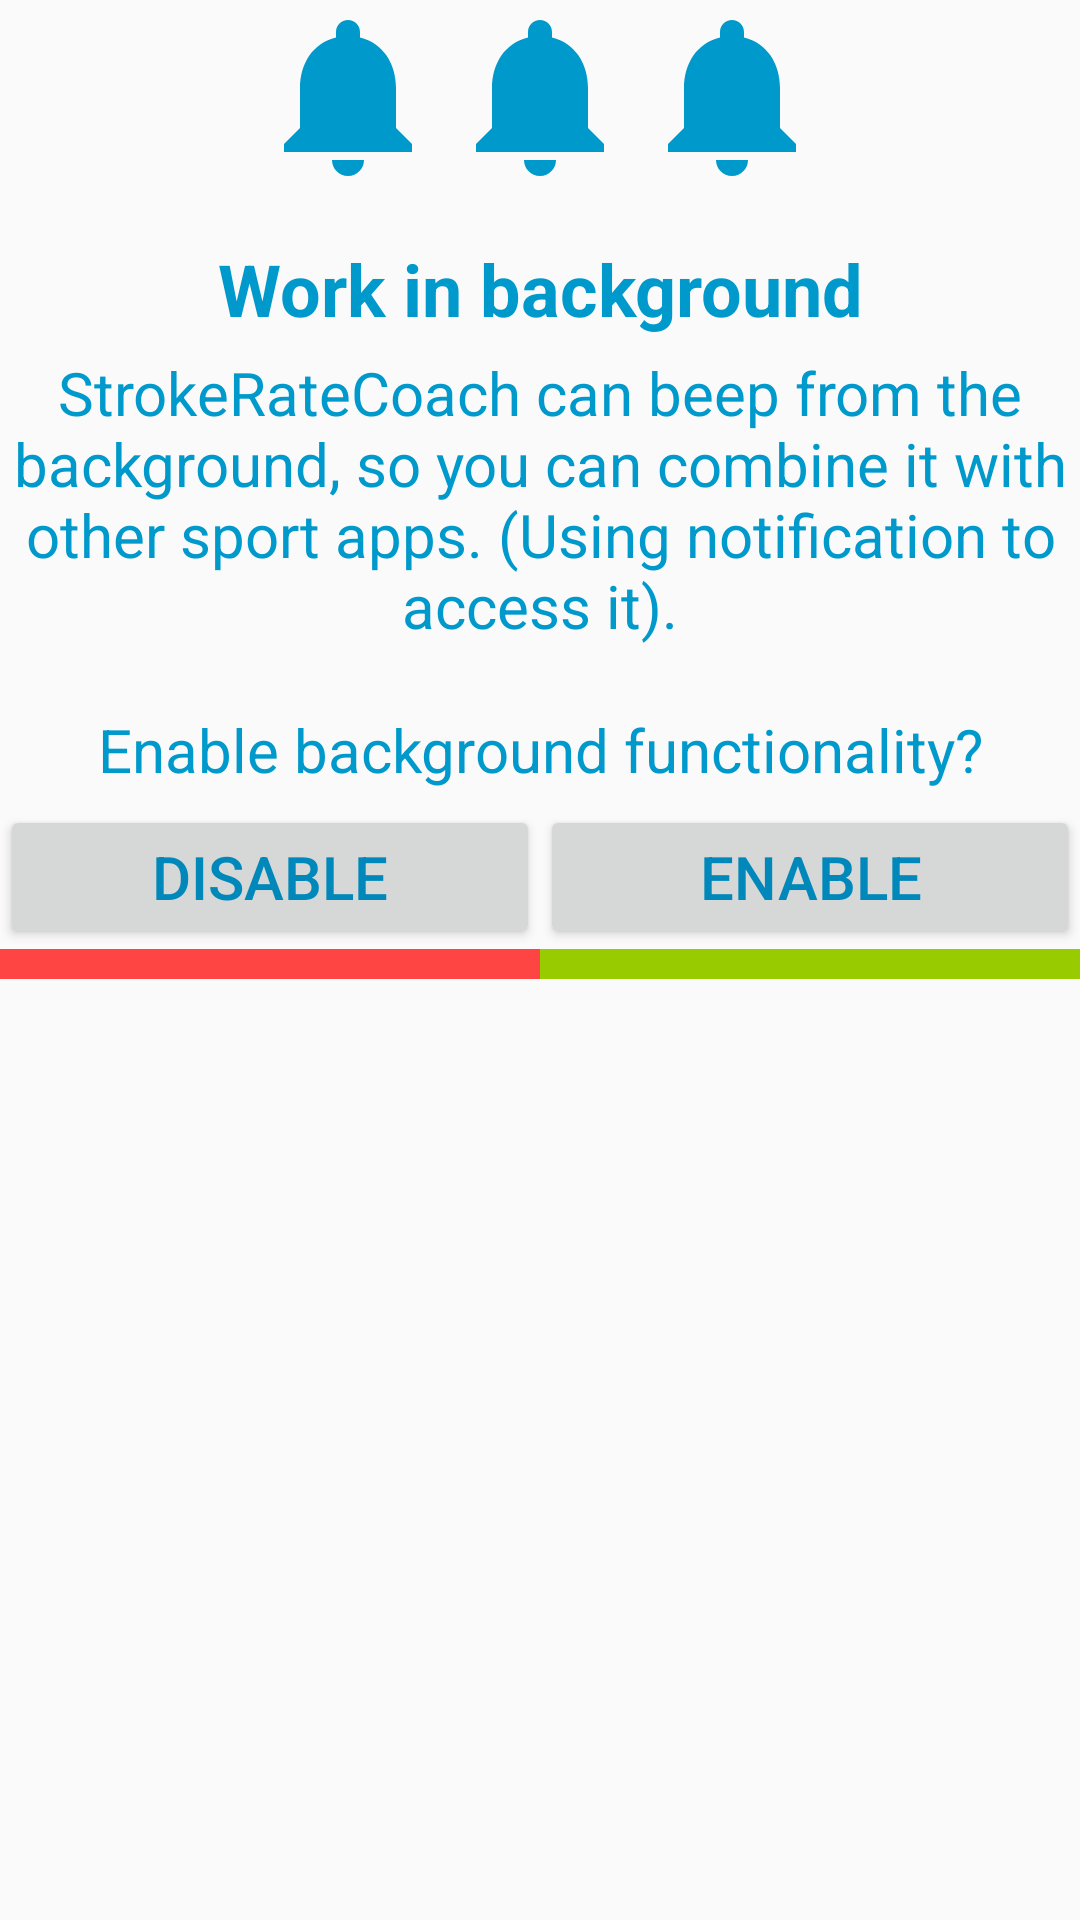

Where to tap for icons on this 1080px×1920px app screen, as (x=x, y=y):
notif: (x=348, y=98), (x=540, y=98), (x=732, y=98)
